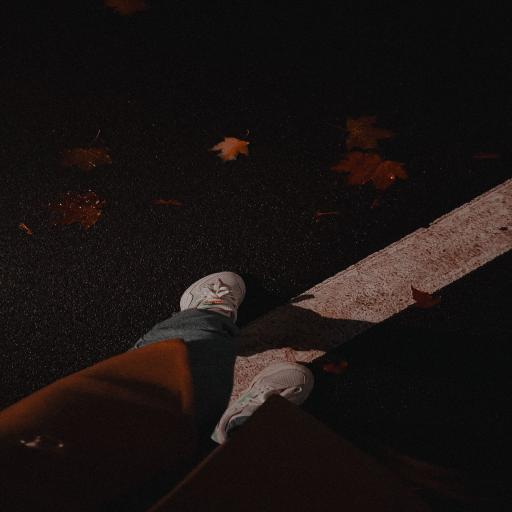shoe: (211, 362, 313, 443), (181, 272, 245, 321)
